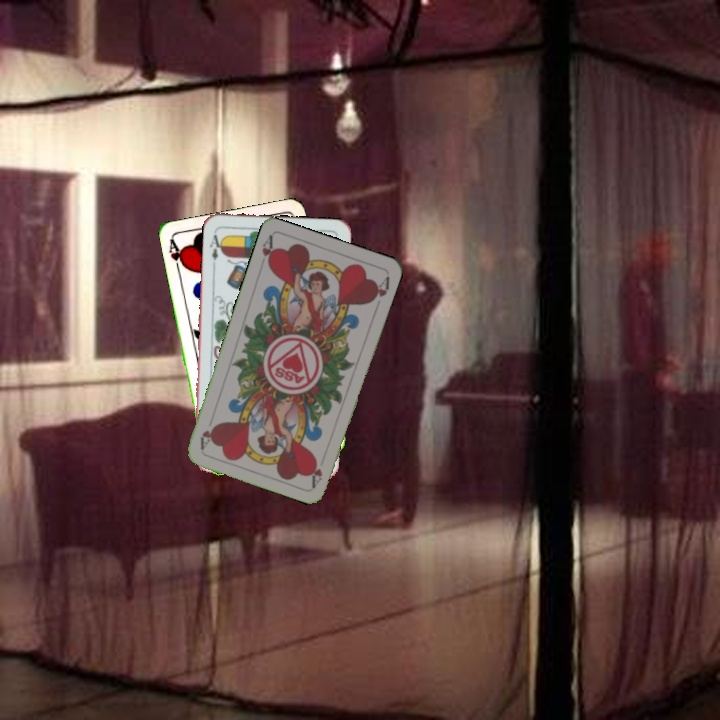EA: (205, 227, 226, 263)
HA: (165, 236, 188, 276), (255, 232, 278, 272), (308, 458, 325, 489)
